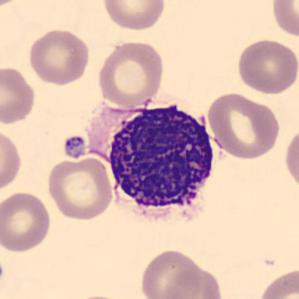Basophil: (104, 94, 223, 233)
Platelets: (62, 133, 88, 160)
RBC: (205, 90, 282, 161), (96, 38, 166, 109), (44, 155, 114, 222), (26, 26, 92, 87), (235, 37, 298, 96), (0, 189, 53, 254), (138, 247, 204, 299), (161, 262, 227, 299), (0, 64, 38, 125), (100, 0, 167, 32), (0, 126, 23, 196), (256, 266, 298, 299), (269, 0, 299, 40), (282, 124, 299, 194), (66, 292, 133, 299), (0, 0, 25, 8)
